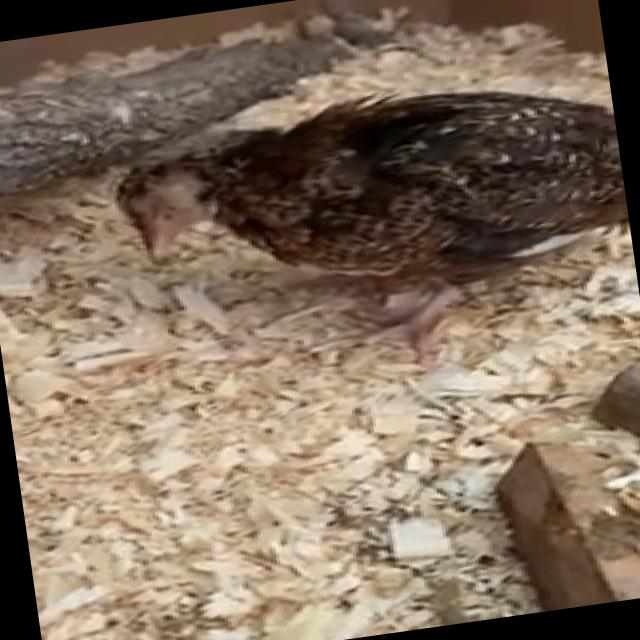newcastle: (91, 51, 638, 356)
